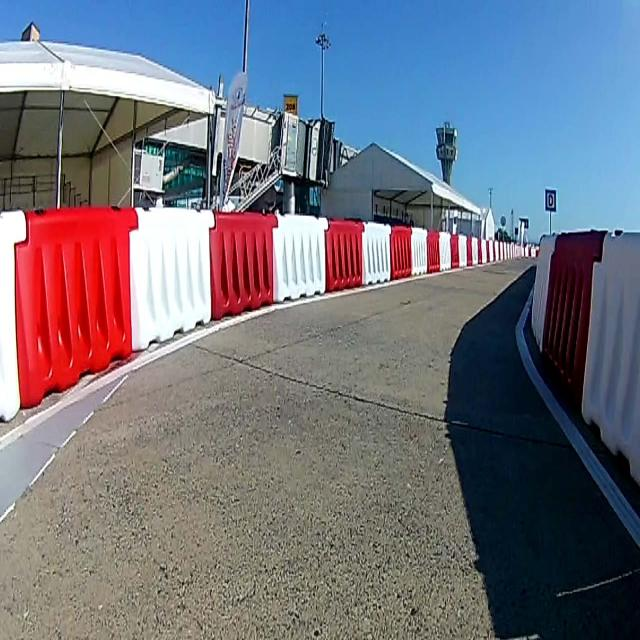durak: (544, 187, 556, 208)
